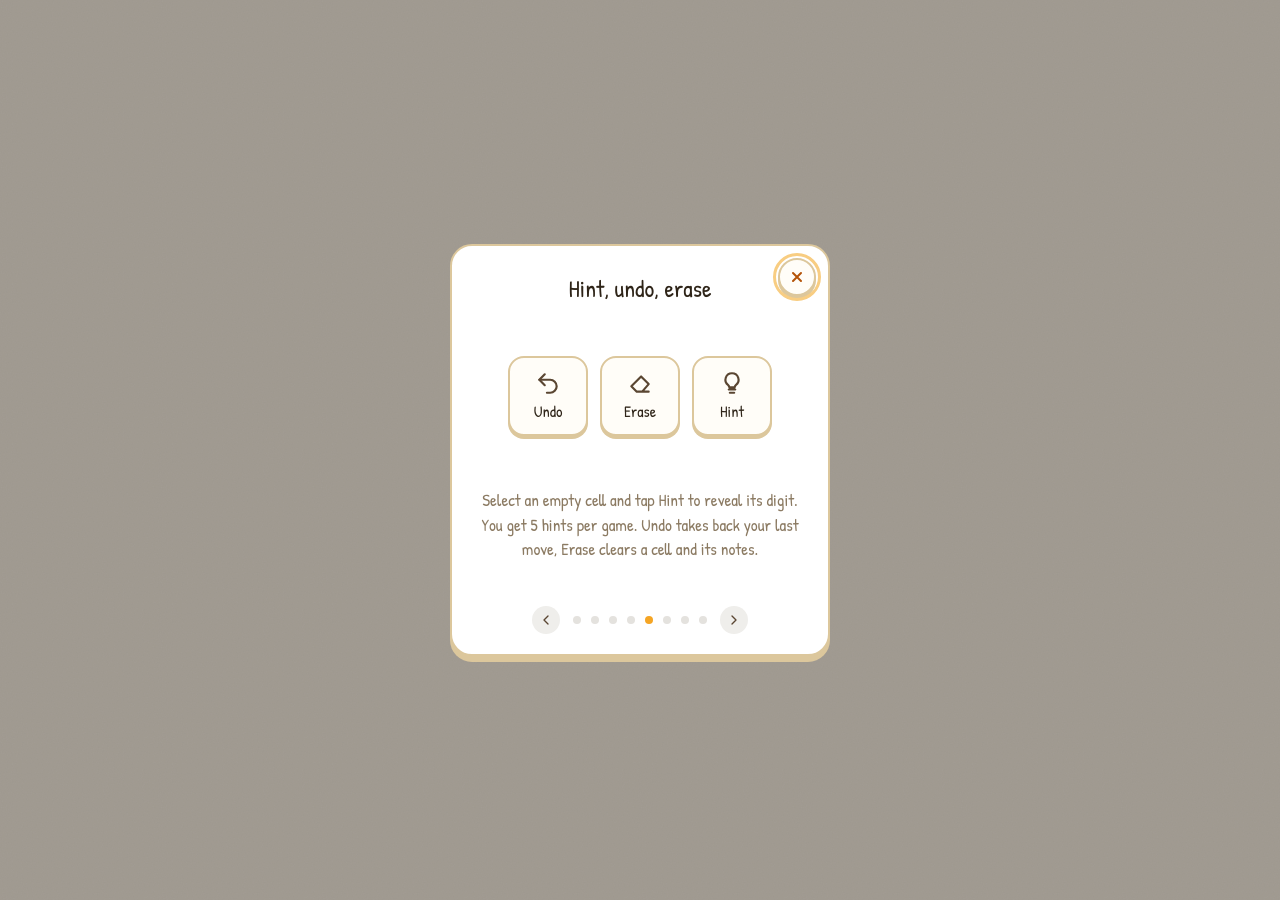
Test: Game Modals › HelpModal › pages through the guide from the hint topic
Expected: the heading "Hint, undo, erase" is shown, x1=568 y1=272 x2=711 y2=304
Click the button named "Next" at (734, 620), box x1=720 y1=606 x2=748 y2=634
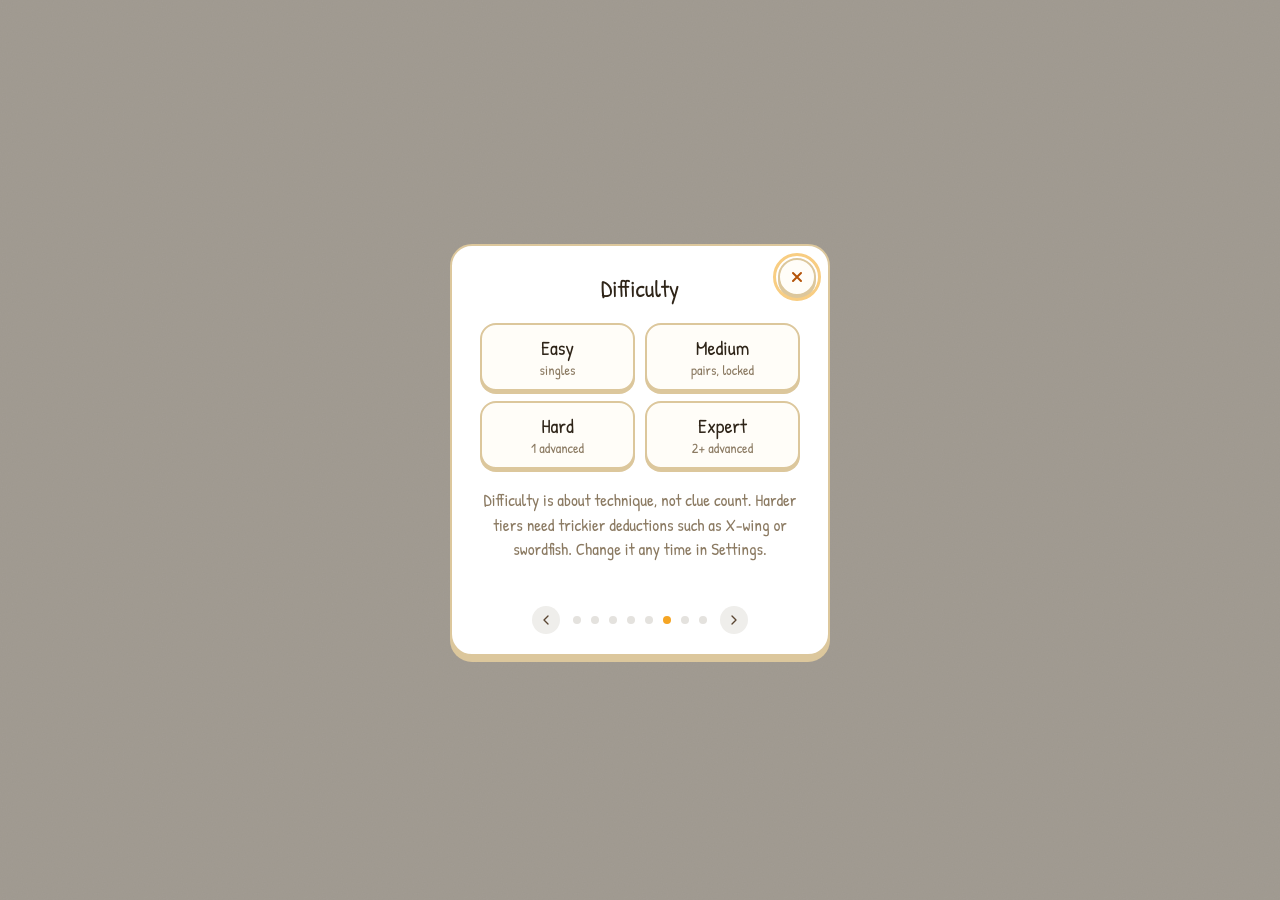
Result: the heading "Difficulty" is shown at x1=601 y1=272 x2=679 y2=304
Click the button named "Previous" at (546, 620), box x1=532 y1=606 x2=560 y2=634
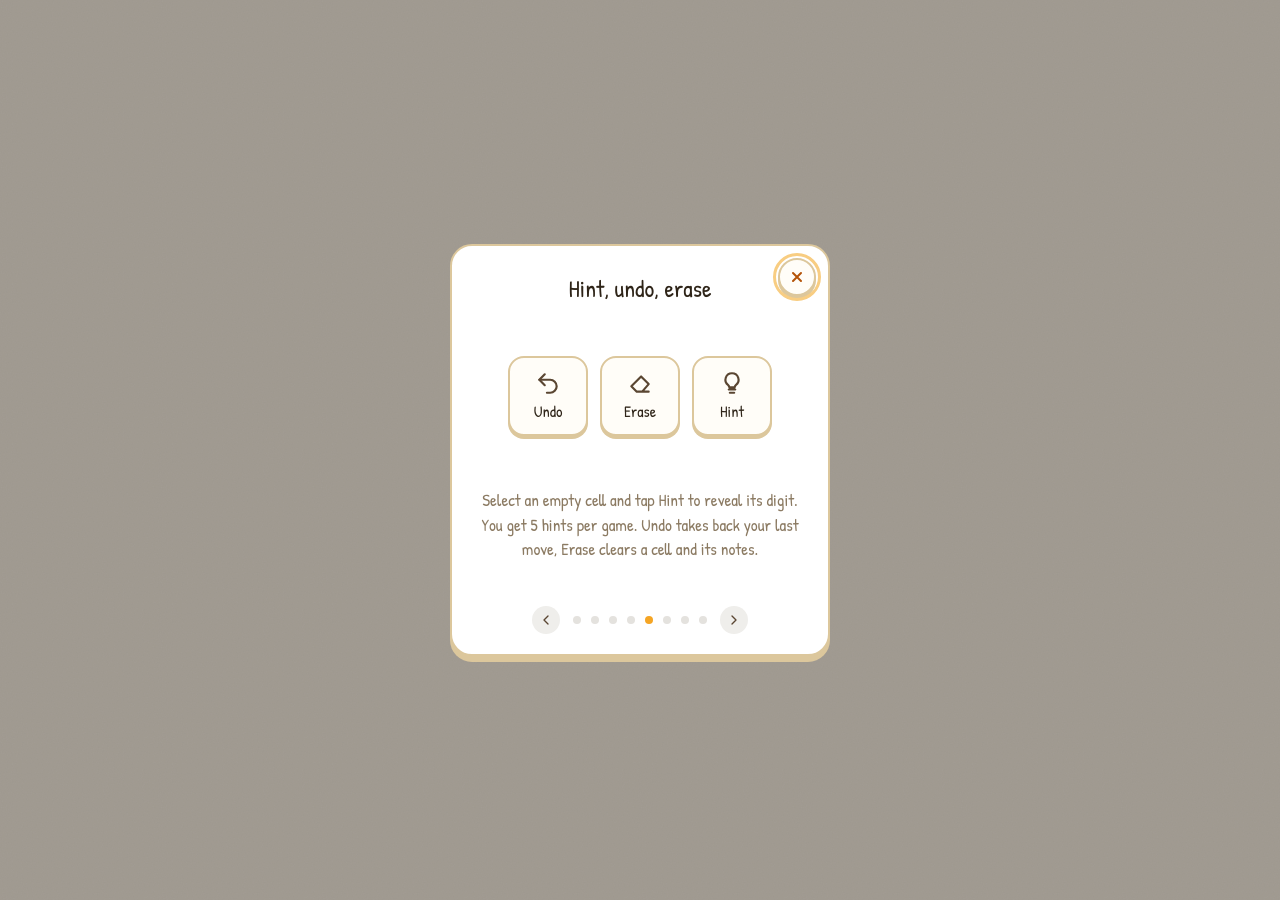
Result: the heading "Hint, undo, erase" is shown at x1=568 y1=272 x2=711 y2=304
